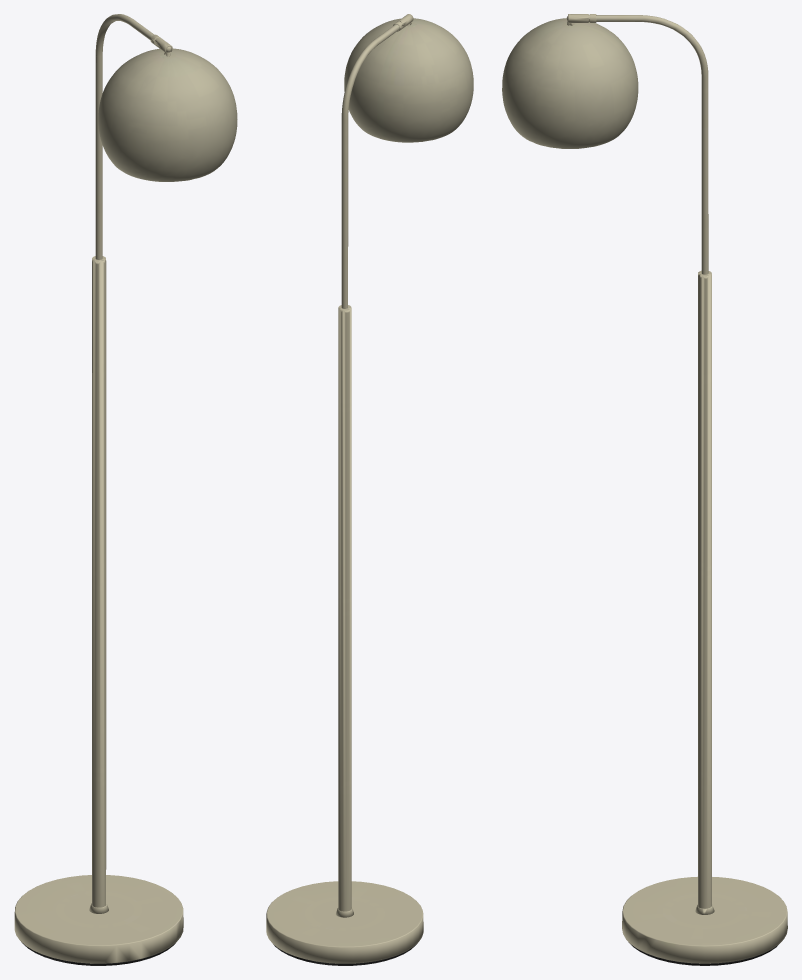
The model's file is B07374SBFL.glb.
The picture shows the model from 3 angles, left to right: view 1: azimuth 30°, elevation 25°; view 2: azimuth 150°, elevation 25°; view 3: azimuth 270°, elevation 25°; orthographic projection. The views are drawn at different scales.
Visible parts, largest first — view 1: RootNode; view 2: RootNode; view 3: RootNode.
Boxes of the visible parts, <box> form: RootNode: <box>14,14,237,965</box>; RootNode: <box>266,14,473,965</box>; RootNode: <box>502,14,787,965</box>.
Bounding box in the file's own units: 0.2498 × 1.53 × 0.4305.
Materials: 1 (1 with a texture image).
